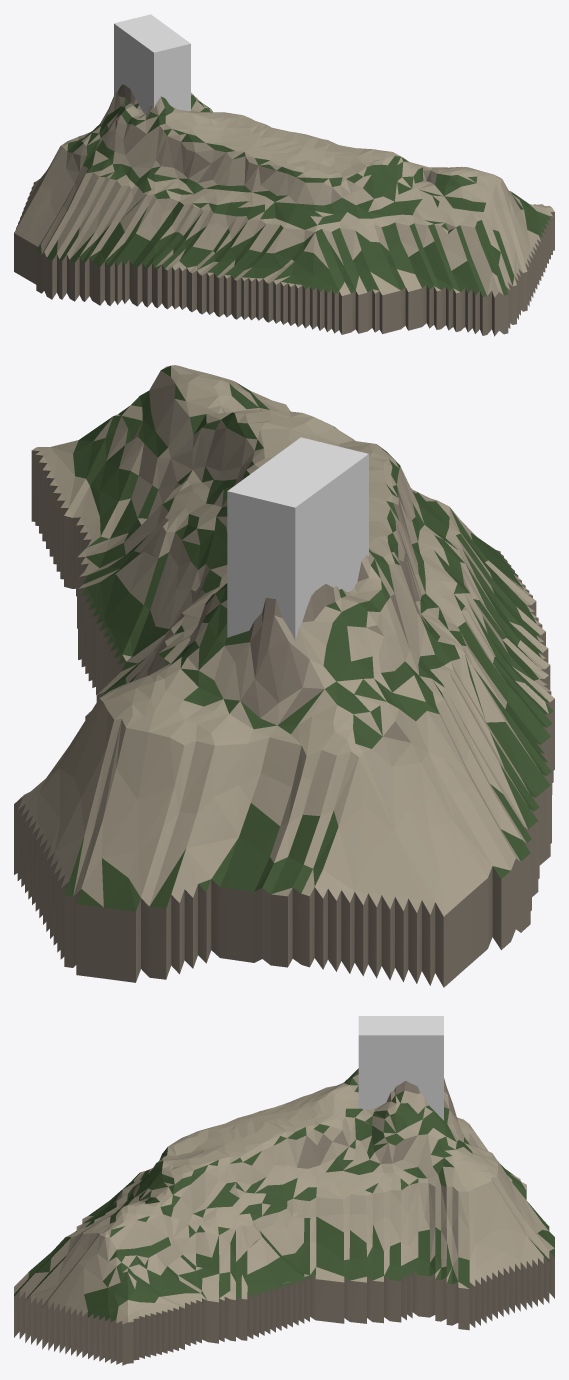
File: nublo.glb
The picture shows the model from 3 angles, top to bottom: view 1: azimuth 30°, elevation 25°; view 2: azimuth 150°, elevation 25°; view 3: azimuth 270°, elevation 25°; orthographic projection. The views are drawn at different scales.
Parts seen in each view (by area): view 1: sitio, bulto-roque-1; view 2: sitio, bulto-roque-1; view 3: sitio, bulto-roque-1.
Part boxes in pixels (left/top/right/bottom): sitio: left=14, top=84, right=554, bottom=336; bulto-roque-1: left=114, top=14, right=190, bottom=113; sitio: left=14, top=365, right=554, bottom=987; bulto-roque-1: left=227, top=437, right=368, bottom=640; sitio: left=14, top=1068, right=554, bottom=1365; bulto-roque-1: left=358, top=1016, right=443, bottom=1120.
Bounding box in the file's own units: 415 × 240 × 475.
